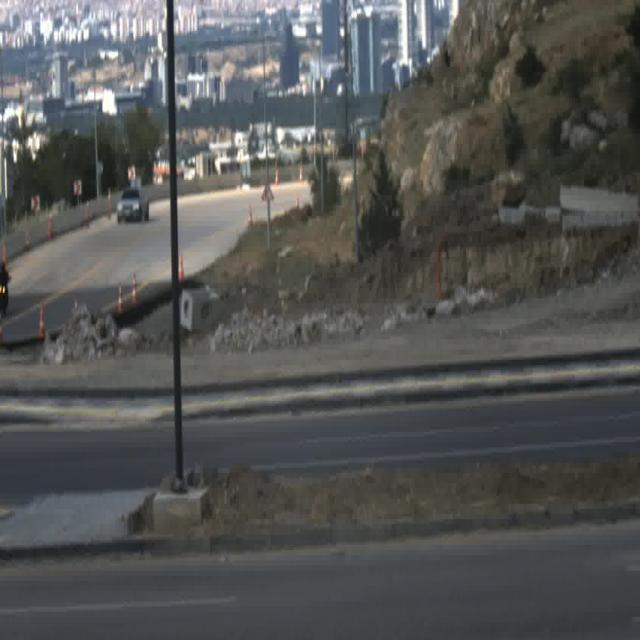Car: (117, 186, 151, 224)
Motorcycle: (0, 260, 11, 318)
